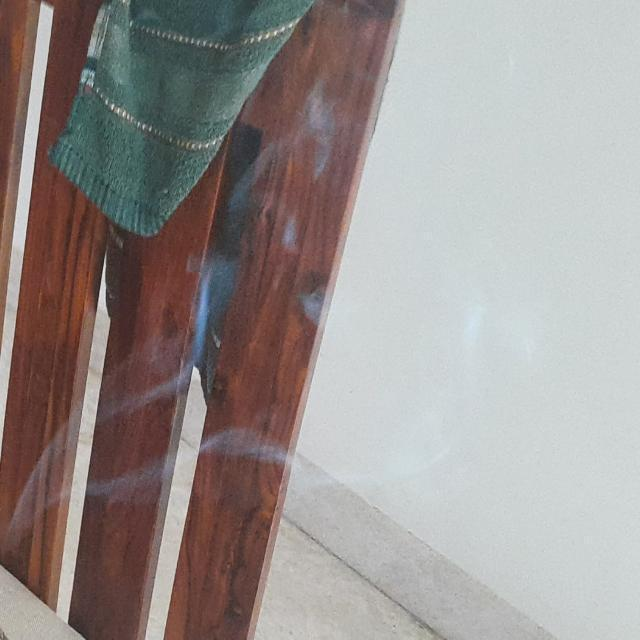fire: (6, 424, 430, 545), (228, 77, 334, 224), (178, 257, 232, 376)
